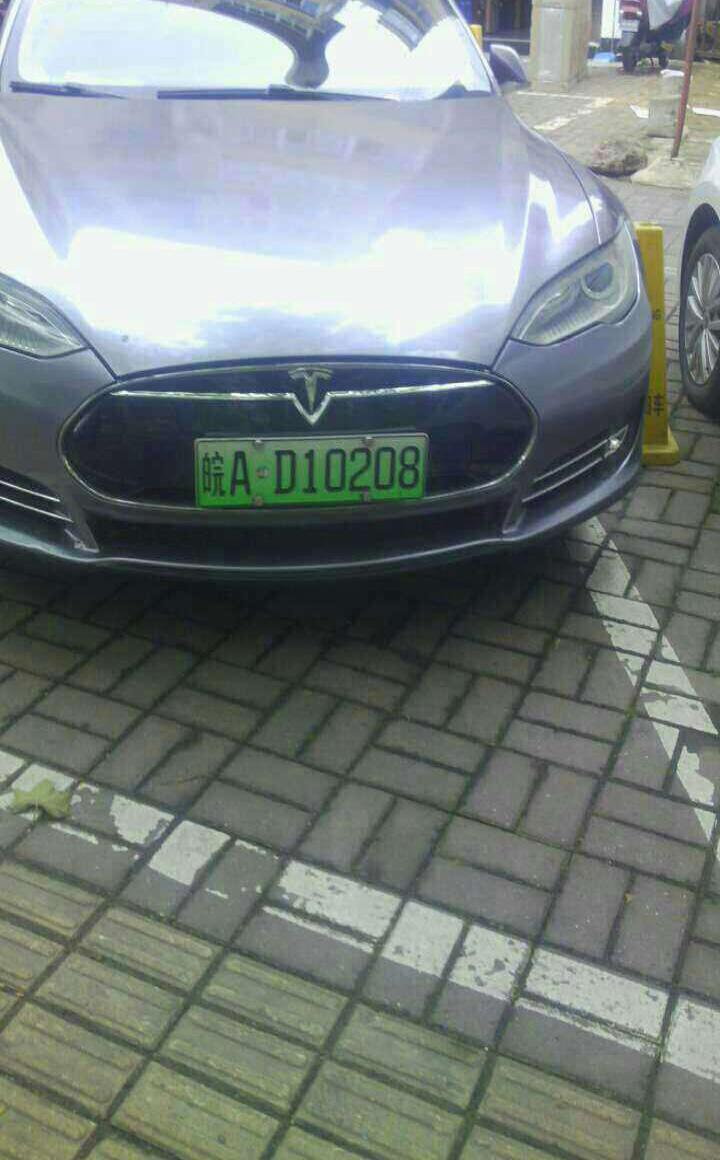car_id: (194, 434, 428, 505)
